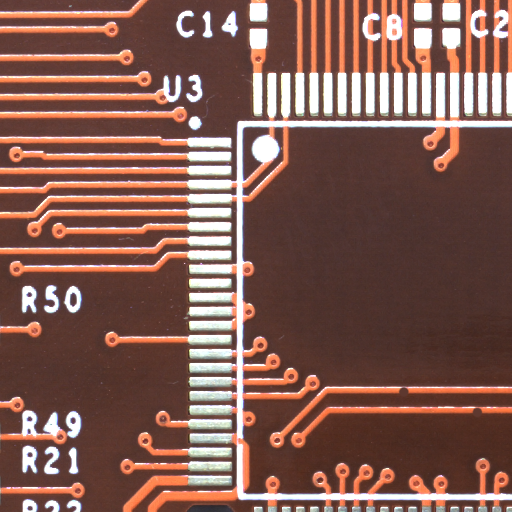Mouse_bite: (476, 410, 493, 422), (402, 391, 418, 402)
